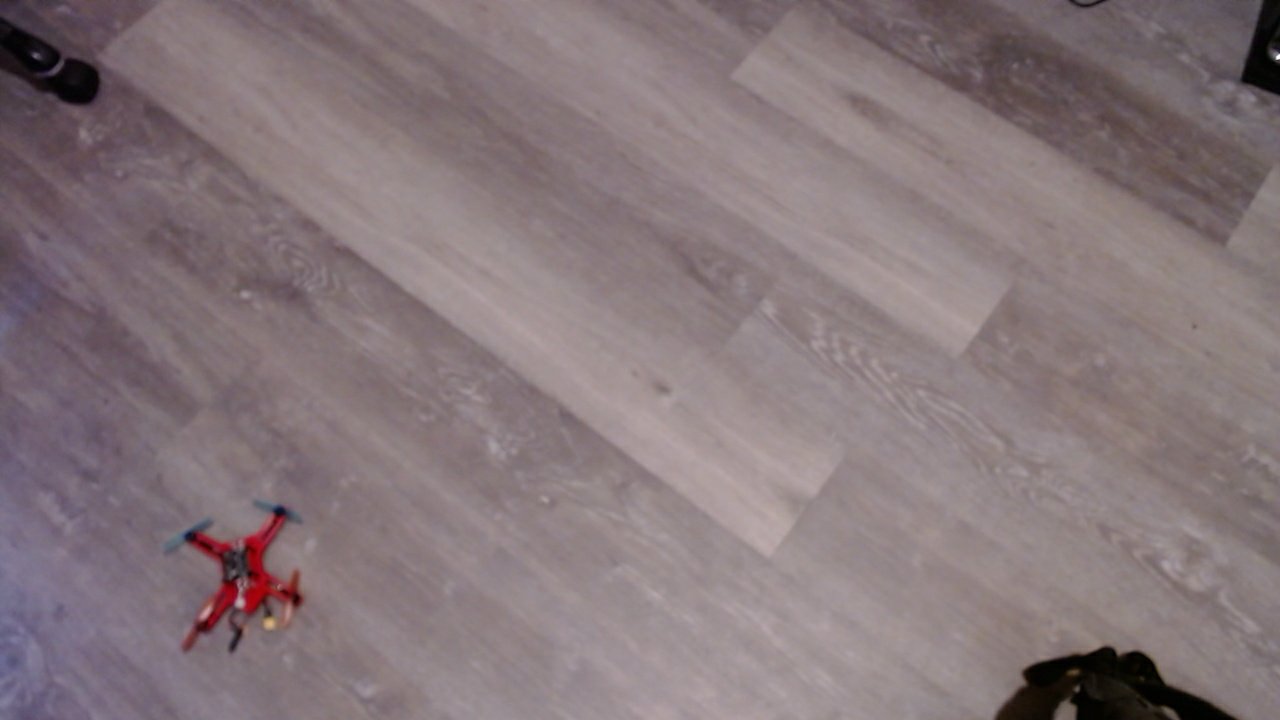crazyflie: (158, 499, 331, 668)
